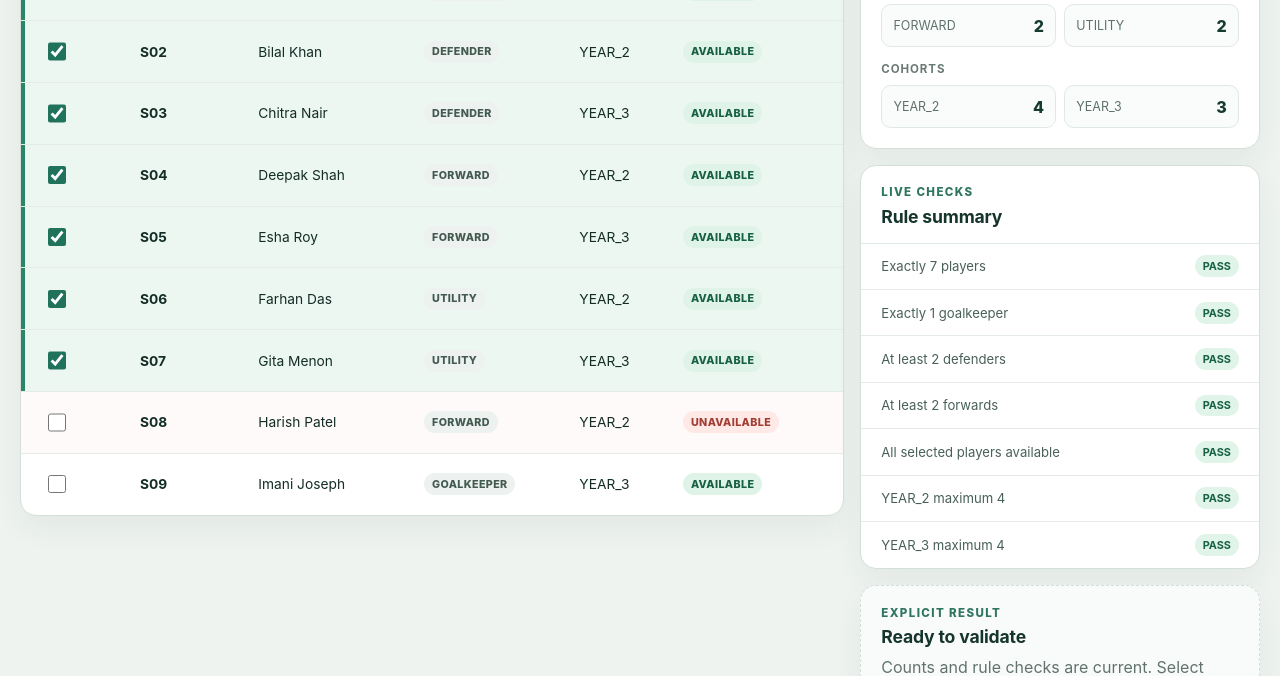
Scenario: Sports Squad Constraint Checker UI › resets the baseline and hides all prior explicit validation output
(page scrolled)
Click the checkbox next to "S07" at (57,361), box x1=48 y1=351 x2=66 y2=370
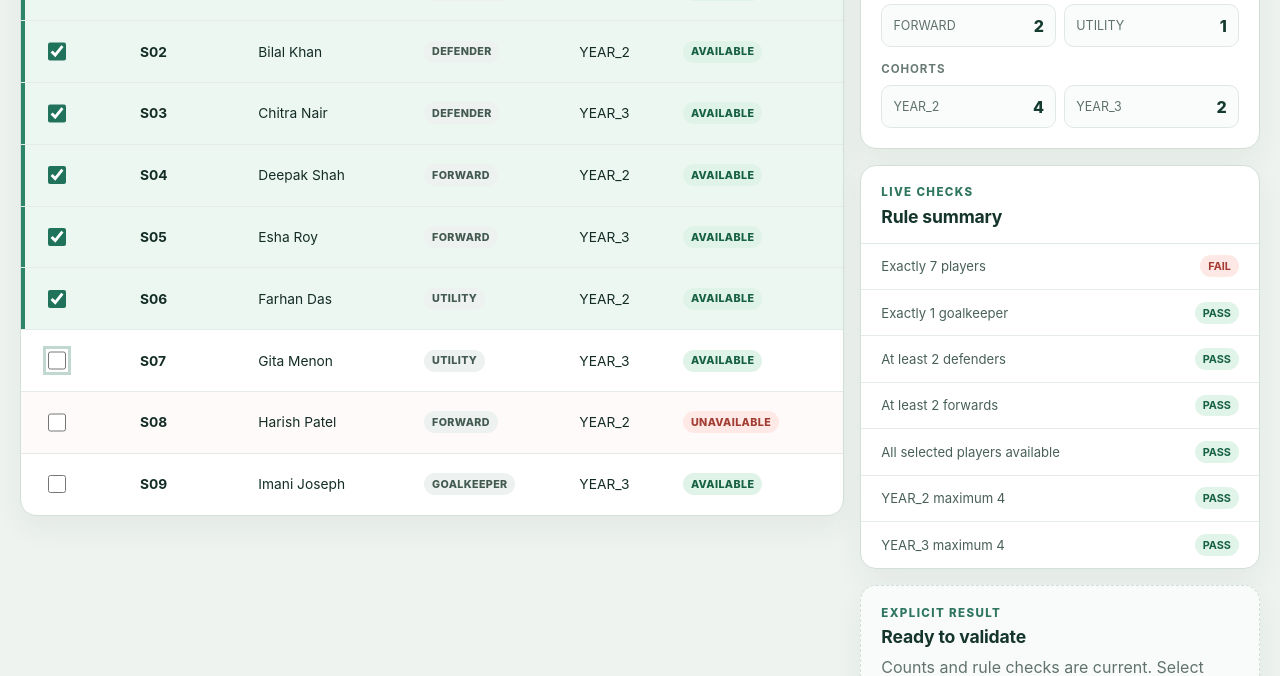
Click the checkbox next to "S08" at (57,422), box x1=48 y1=413 x2=66 y2=432
(page scrolled)
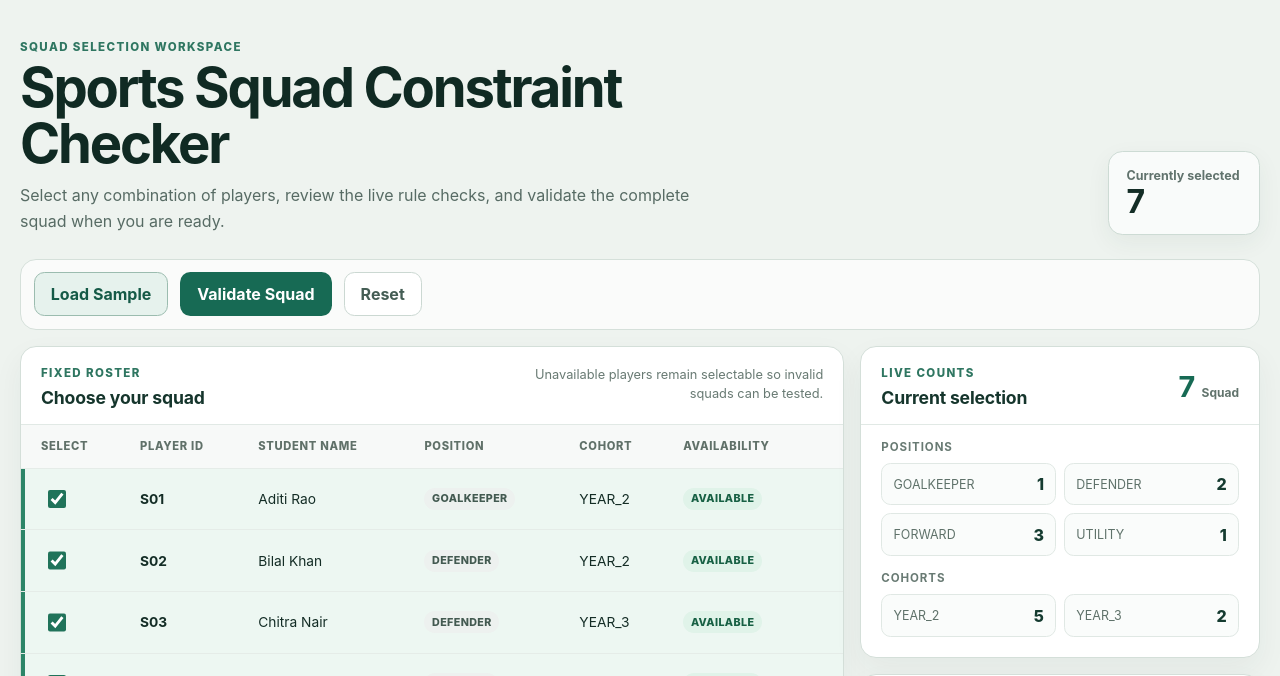
Click the button "Validate Squad" at (256,294), box x1=180 y1=272 x2=332 y2=316
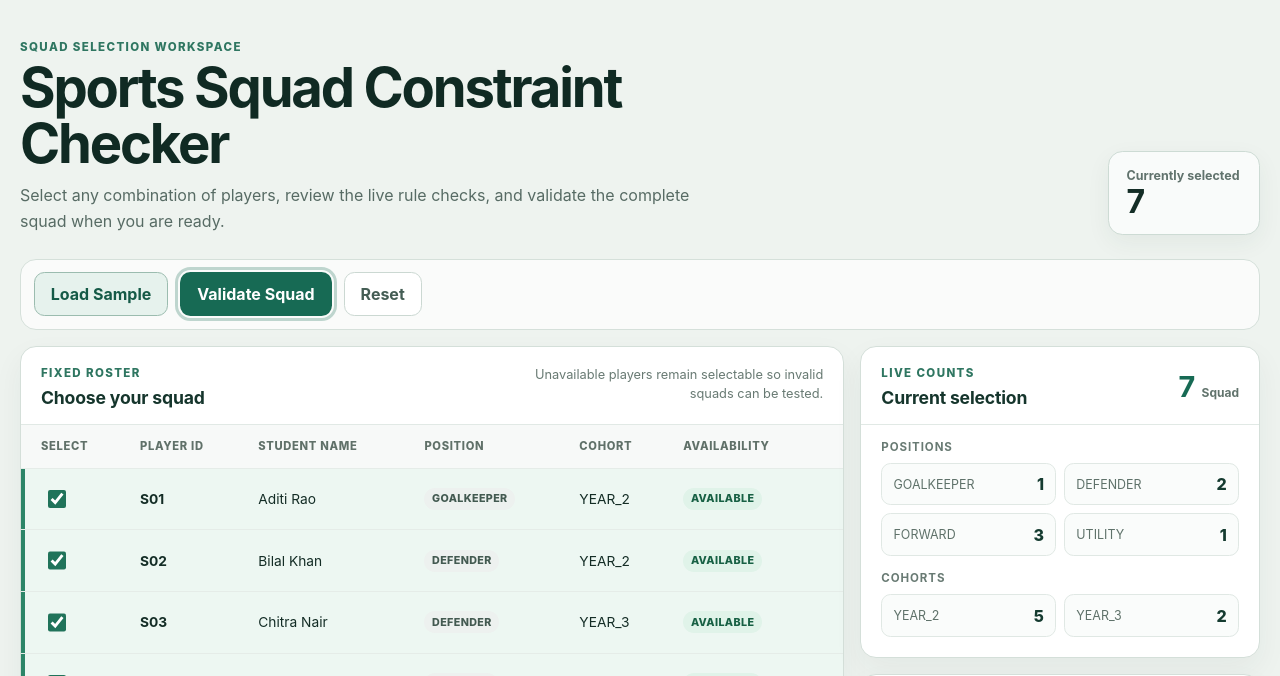
Click the button "Reset" at (383,294), box x1=344 y1=272 x2=422 y2=316
(page scrolled)
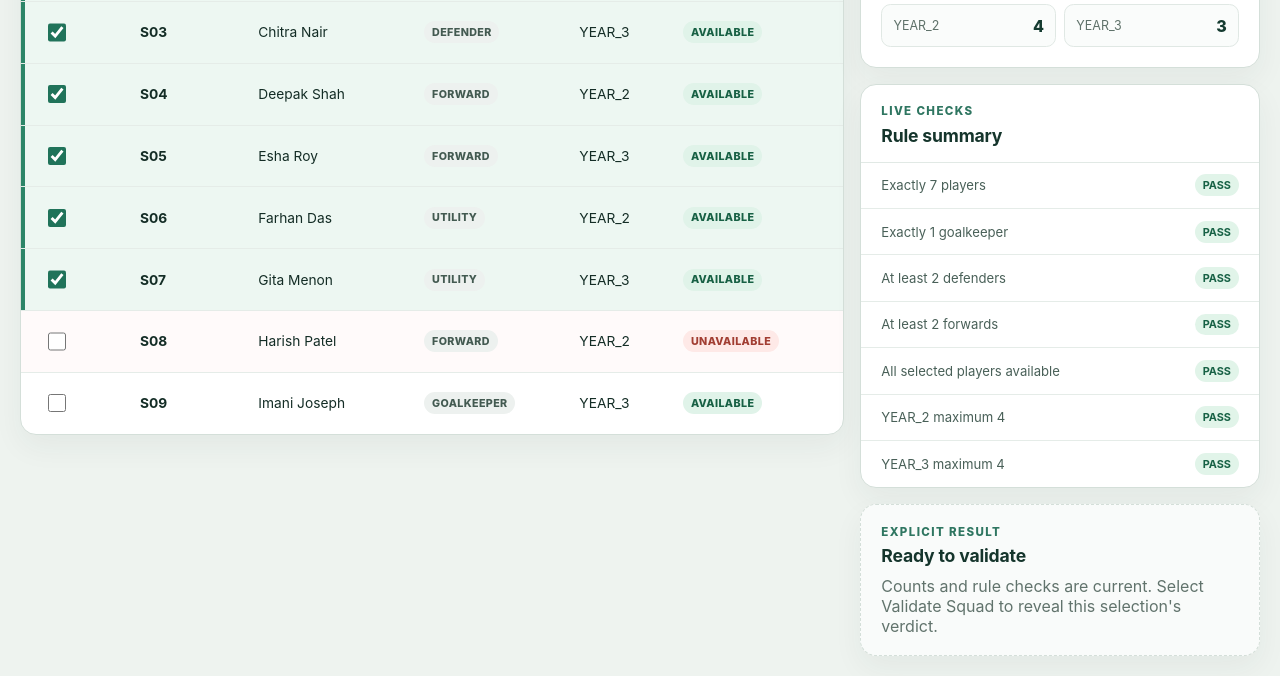
Result: the list item "Exactly 7 players" shows "Pass" at x1=1203 y1=178 x2=1231 y2=192
Result: the text "4" is shown at x1=1033 y1=16 x2=1044 y2=36
Result: the text "3" is shown at x1=1216 y1=16 x2=1227 y2=36
